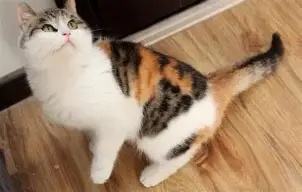三花猫: (0, 0, 141, 190), (156, 20, 301, 190), (106, 42, 215, 190)
